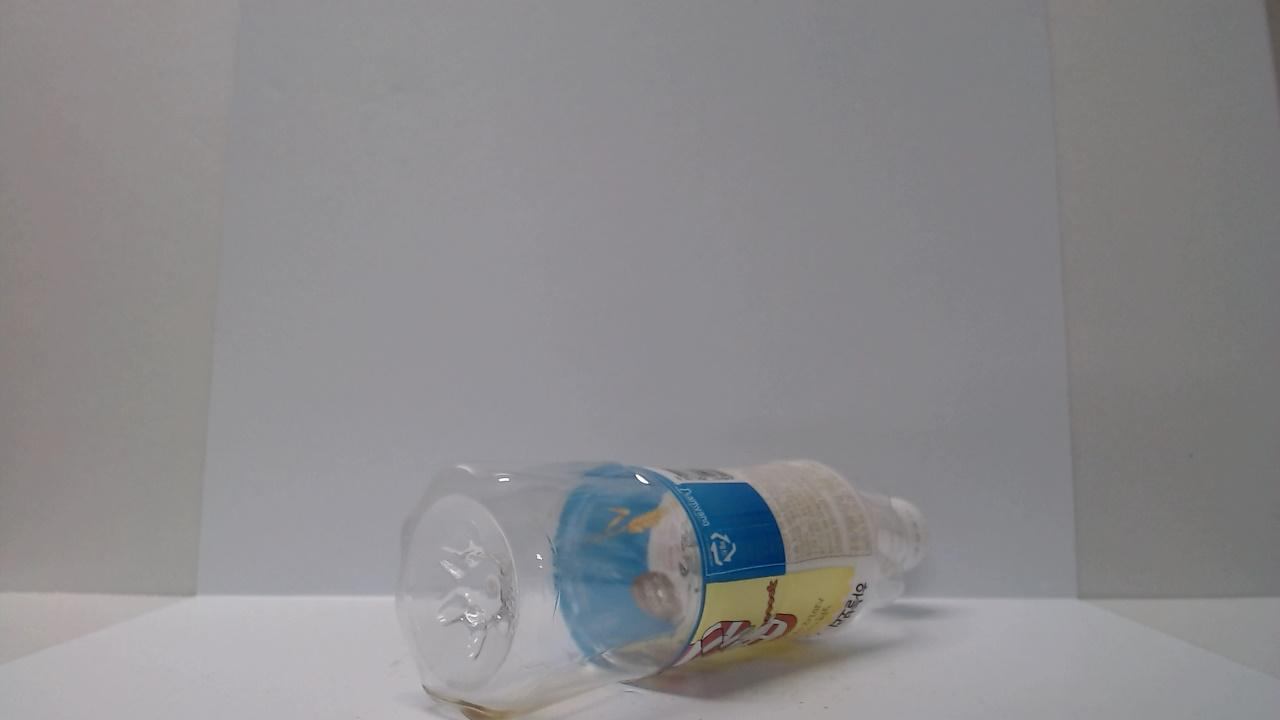bottle: (352, 424, 938, 714)
